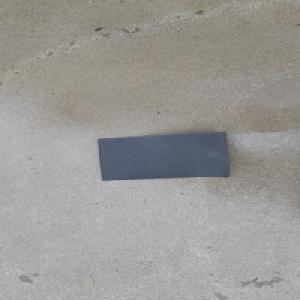PaintChip: (98, 130, 230, 181)
